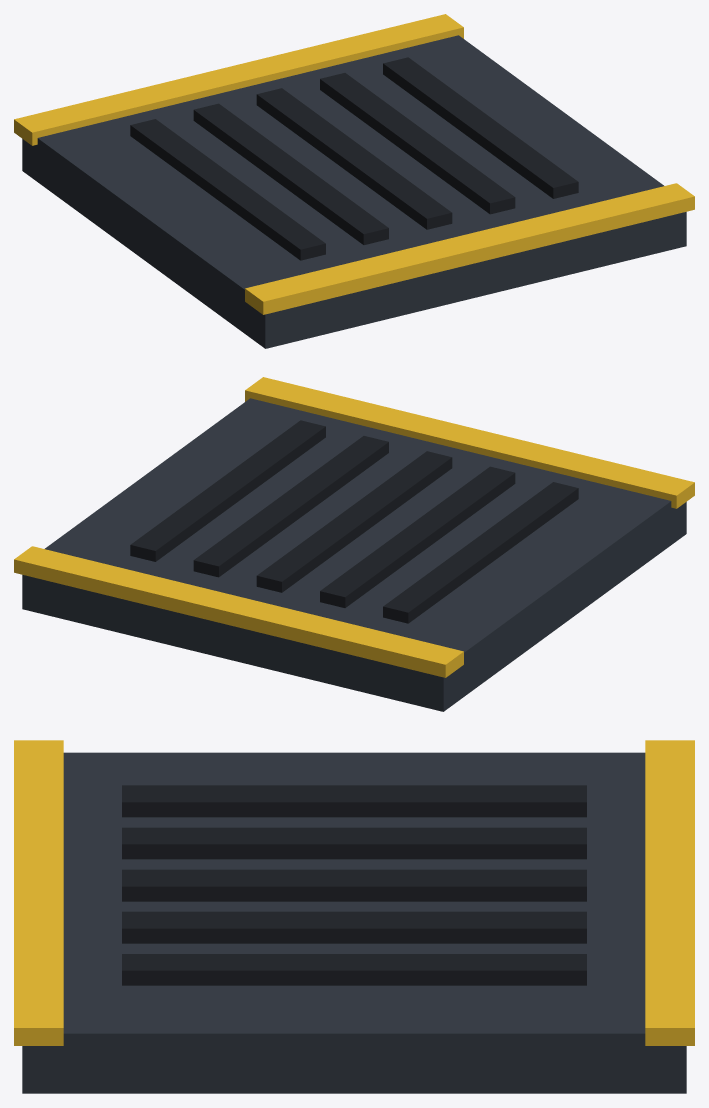
The model's file is interior_steam_vent.glb.
3 renders of one model, top to bottom at view 1: azimuth 30°, elevation 25°; view 2: azimuth 150°, elevation 25°; view 3: azimuth 270°, elevation 25°, orthographic. The views are drawn at different scales.
Visible parts, largest first — view 1: interior_steam_vent_steelDark, interior_steam_vent_black, interior_steam_vent_yellow; view 2: interior_steam_vent_steelDark, interior_steam_vent_black, interior_steam_vent_yellow; view 3: interior_steam_vent_steelDark, interior_steam_vent_black, interior_steam_vent_yellow.
Boxes of the visible parts, <box> form: interior_steam_vent_steelDark: <box>22,35,686,348</box>; interior_steam_vent_black: <box>130,57,578,260</box>; interior_steam_vent_yellow: <box>14,14,694,314</box>; interior_steam_vent_steelDark: <box>22,398,686,711</box>; interior_steam_vent_black: <box>130,420,578,623</box>; interior_steam_vent_yellow: <box>14,377,694,677</box>; interior_steam_vent_steelDark: <box>22,752,686,1093</box>; interior_steam_vent_black: <box>122,785,586,985</box>; interior_steam_vent_yellow: <box>14,740,694,1045</box>.
Bounding box in the file's own units: 2.05 × 0.25 × 2.05.
